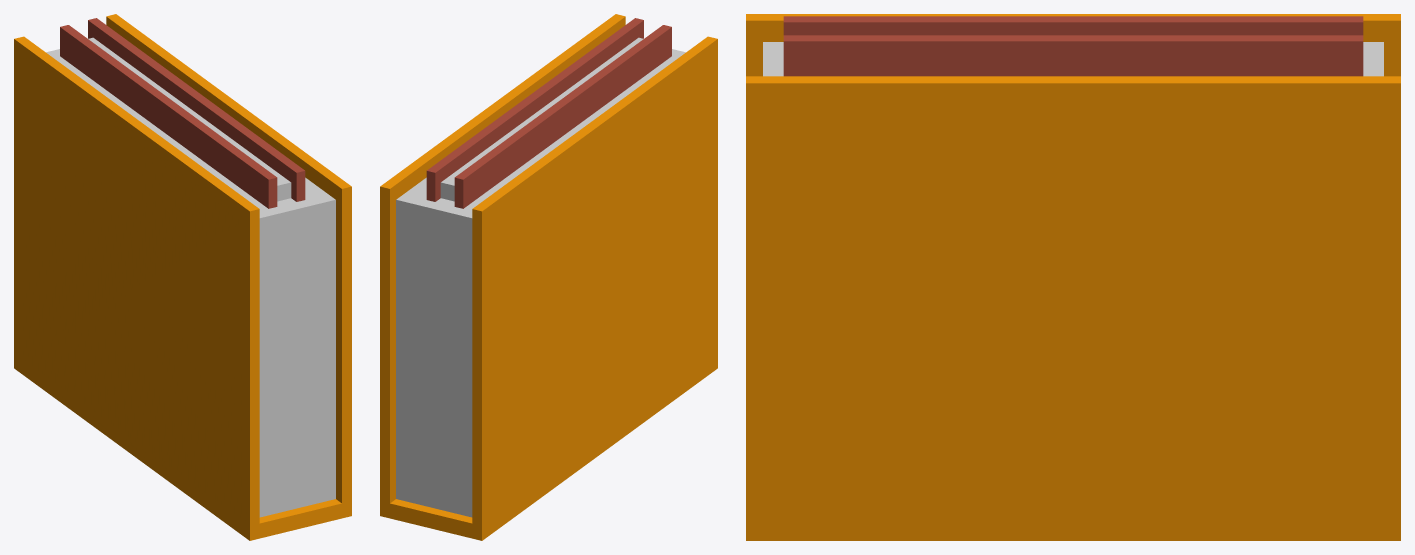
The model's file is Books.fbx.
The picture shows the model from 3 angles, left to right: view 1: azimuth 30°, elevation 25°; view 2: azimuth 150°, elevation 25°; view 3: azimuth 270°, elevation 25°; orthographic projection. The views are drawn at different scales.
Visible parts, largest first — view 1: BOOK.001, BOOK.003; view 2: BOOK.001, BOOK.003; view 3: BOOK.001, BOOK.003.
Part boxes in pixels (left/top/right/bottom): BOOK.001: left=14, top=14, right=351, bottom=540; BOOK.003: left=60, top=18, right=305, bottom=208; BOOK.001: left=380, top=14, right=717, bottom=540; BOOK.003: left=426, top=18, right=671, bottom=208; BOOK.001: left=746, top=14, right=1400, bottom=540; BOOK.003: left=783, top=16, right=1363, bottom=76.
Size of the model in its own units: 8.49 by 27.32 by 33.99.
